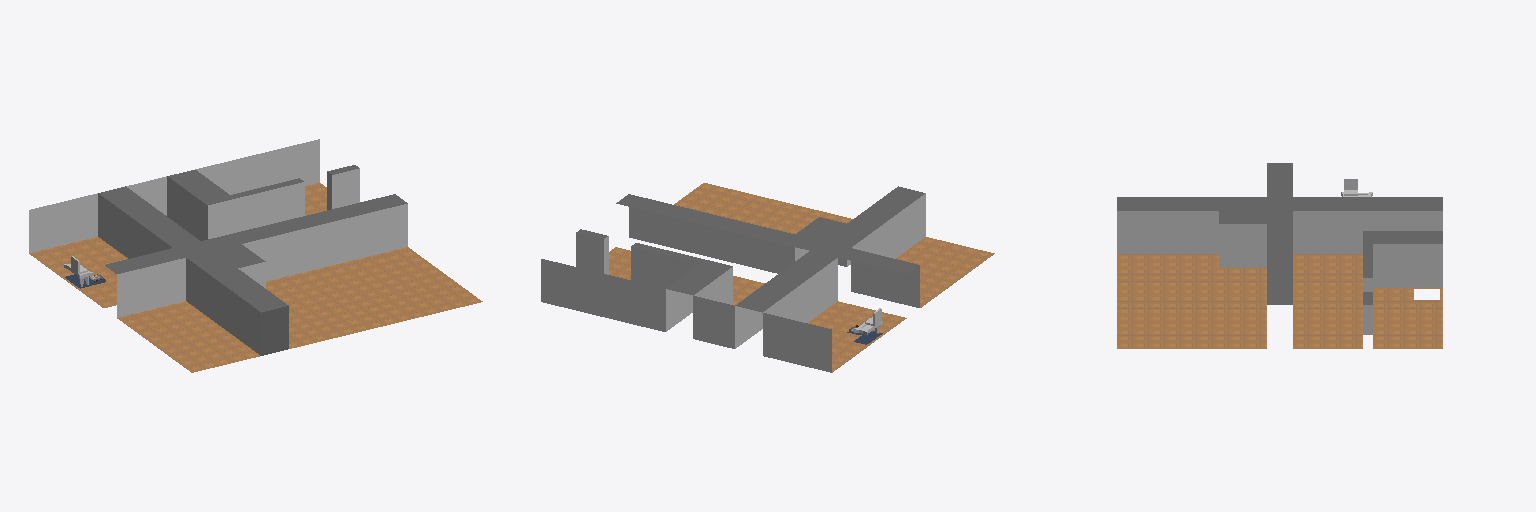
3 renders of one model, left to right at view 1: azimuth 30°, elevation 25°; view 2: azimuth 150°, elevation 25°; view 3: azimuth 270°, elevation 25°, orthographic.
Visible parts, largest first — view 1: m_dun2601_01_00c; view 2: m_dun2601_01_00c; view 3: m_dun2601_01_00c.
Part boxes in pixels (bbox=[...]): m_dun2601_01_00c: bbox=[29, 139, 482, 372]; m_dun2601_01_00c: bbox=[541, 183, 994, 372]; m_dun2601_01_00c: bbox=[1117, 163, 1442, 348].
Bounding box in the file's own units: 336 × 48 × 326.
Materials: 9 (2 with a texture image).